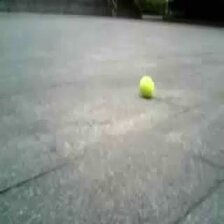tennis: (139, 77, 154, 96)
